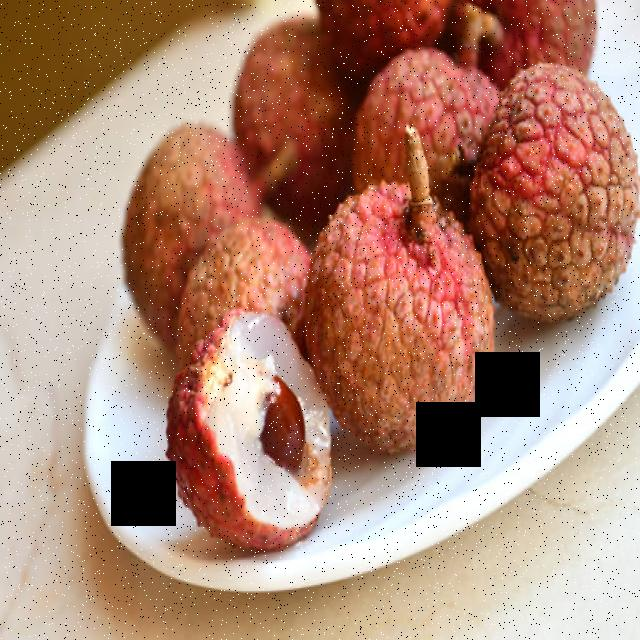lychee: (154, 152, 501, 564)
